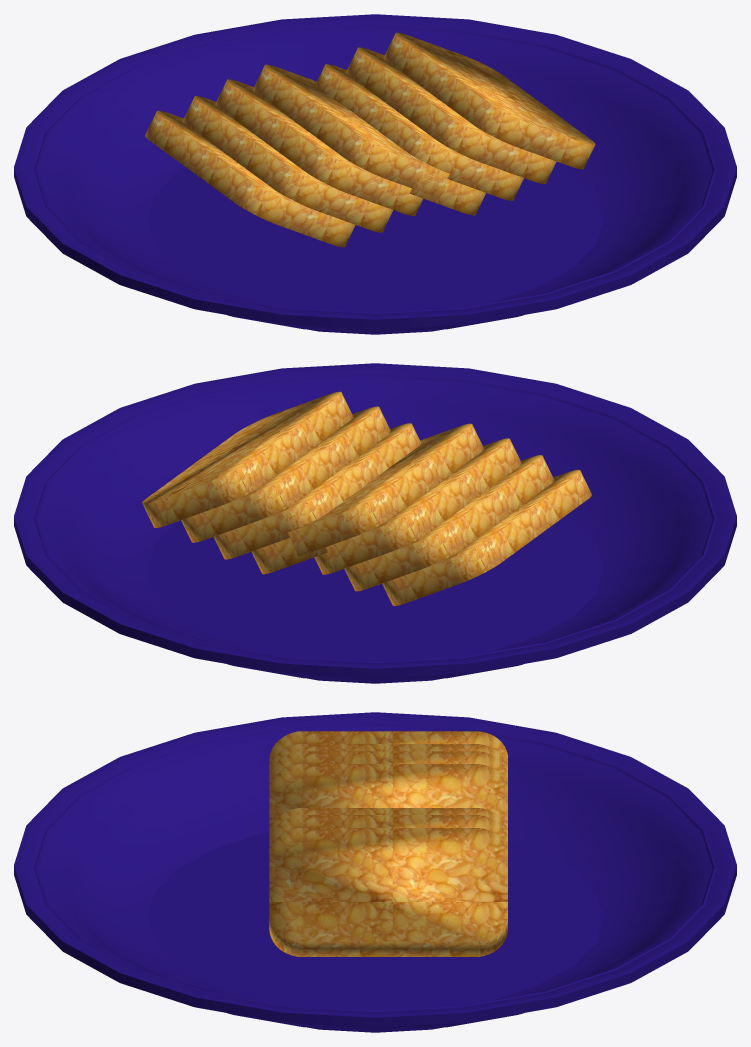
Rendered from Tempe goreng.fbx.
3 views of the same model, one above another, from view 1: azimuth 30°, elevation 25°; view 2: azimuth 150°, elevation 25°; view 3: azimuth 270°, elevation 25° (orthographic).
Visible parts, largest first — view 1: piring, Tempe, Tempe.001; view 2: piring, Tempe, Tempe.001; view 3: piring, Tempe.001, Tempe.
Boxes of the visible parts, left/top/right/bottom form: piring: left=14, top=14, right=736, bottom=334; Tempe: left=145, top=64, right=450, bottom=247; Tempe.001: left=316, top=32, right=595, bottom=215; piring: left=14, top=363, right=736, bottom=683; Tempe: left=287, top=423, right=591, bottom=605; Tempe.001: left=142, top=391, right=420, bottom=574; piring: left=14, top=712, right=736, bottom=1032; Tempe.001: left=269, top=808, right=507, bottom=956; Tempe: left=269, top=731, right=507, bottom=835.
Bounding box in the file's own units: 9706 × 2216 × 9706.
